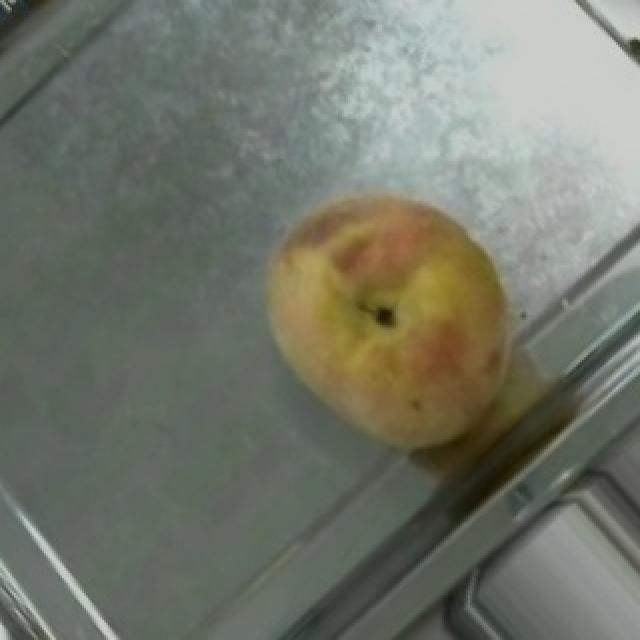Fruit: (220, 149, 556, 496)
